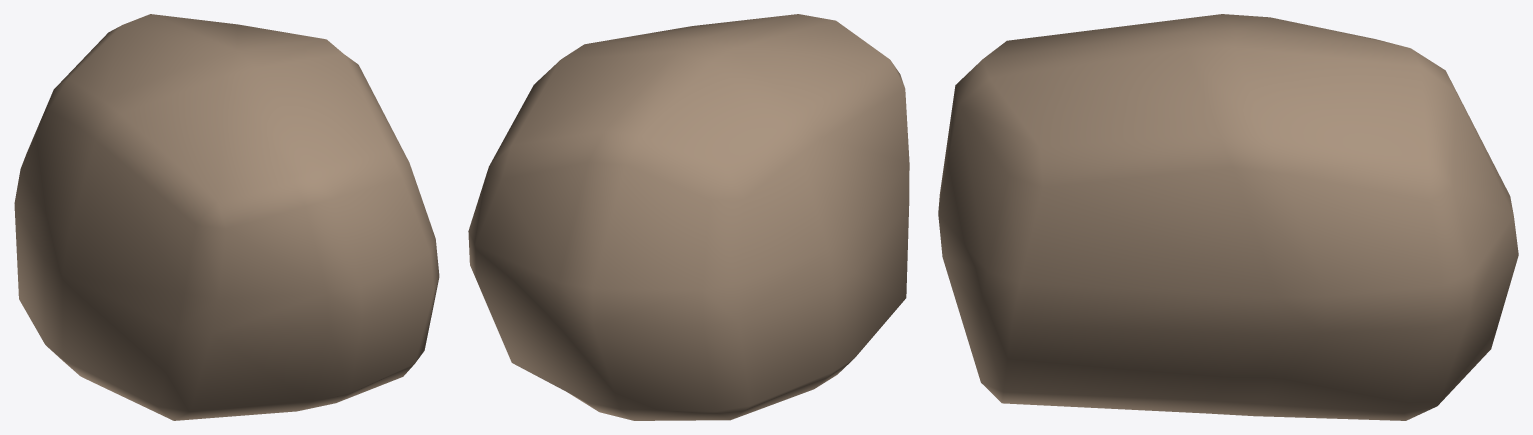
The model's file is Rock_Long.fbx.
The picture shows the model from 3 angles, left to right: view 1: azimuth 30°, elevation 25°; view 2: azimuth 150°, elevation 25°; view 3: azimuth 270°, elevation 25°; orthographic projection. The views are drawn at different scales.
Parts seen in each view (by area): view 1: RockLong_1; view 2: RockLong_1; view 3: RockLong_1.
Part boxes in pixels (<box>): RockLong_1: <box>14,14,439,420</box>; RockLong_1: <box>468,14,909,420</box>; RockLong_1: <box>938,14,1518,420</box>.
Bounding box in the file's own units: 1.79 × 1.65 × 2.44.
